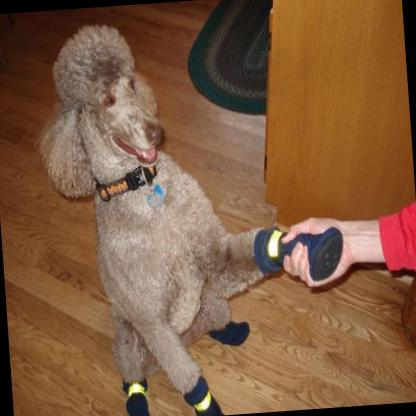standard_poodle: (25, 6, 354, 416)
